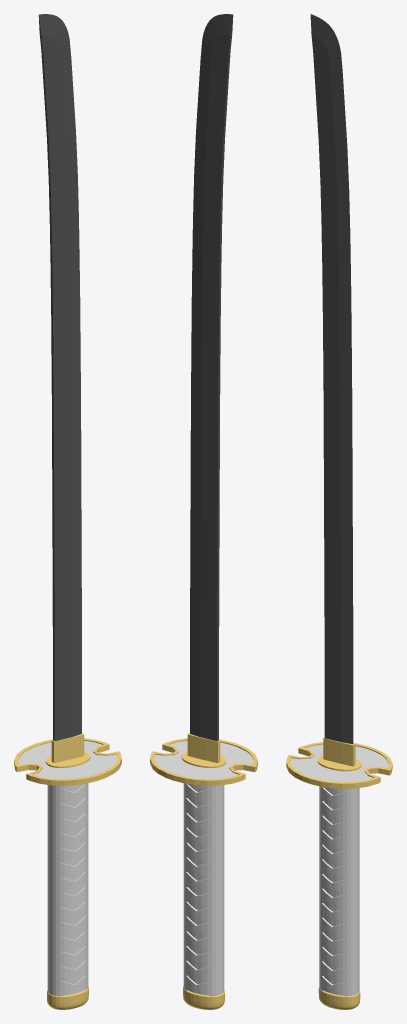
File: Sword3(A2-Project).fbx
The picture shows the model from 3 angles, left to right: view 1: azimuth 30°, elevation 25°; view 2: azimuth 150°, elevation 25°; view 3: azimuth 330°, elevation 25°; orthographic projection.
Parts seen in each view (by area): view 1: Cube.001, Cube, Cube.003, Cube.002; view 2: Cube.001, Cube, Cube.003, Cube.002; view 3: Cube.001, Cube, Cube.003, Cube.002.
Part boxes in pixels (<box>): Cube.001: <box>38,14,81,740</box>; Cube: <box>47,783,88,996</box>; Cube.003: <box>18,741,117,995</box>; Cube.002: <box>14,733,121,1009</box>; Cube.001: <box>190,14,233,740</box>; Cube: <box>183,783,224,996</box>; Cube.003: <box>154,741,253,995</box>; Cube.002: <box>150,733,257,1009</box>; Cube.001: <box>310,14,353,743</box>; Cube: <box>319,786,359,996</box>; Cube.003: <box>290,744,388,995</box>; Cube.002: <box>286,737,392,1009</box>.
Size of the model in its own units: 504 by 5176 by 459.
